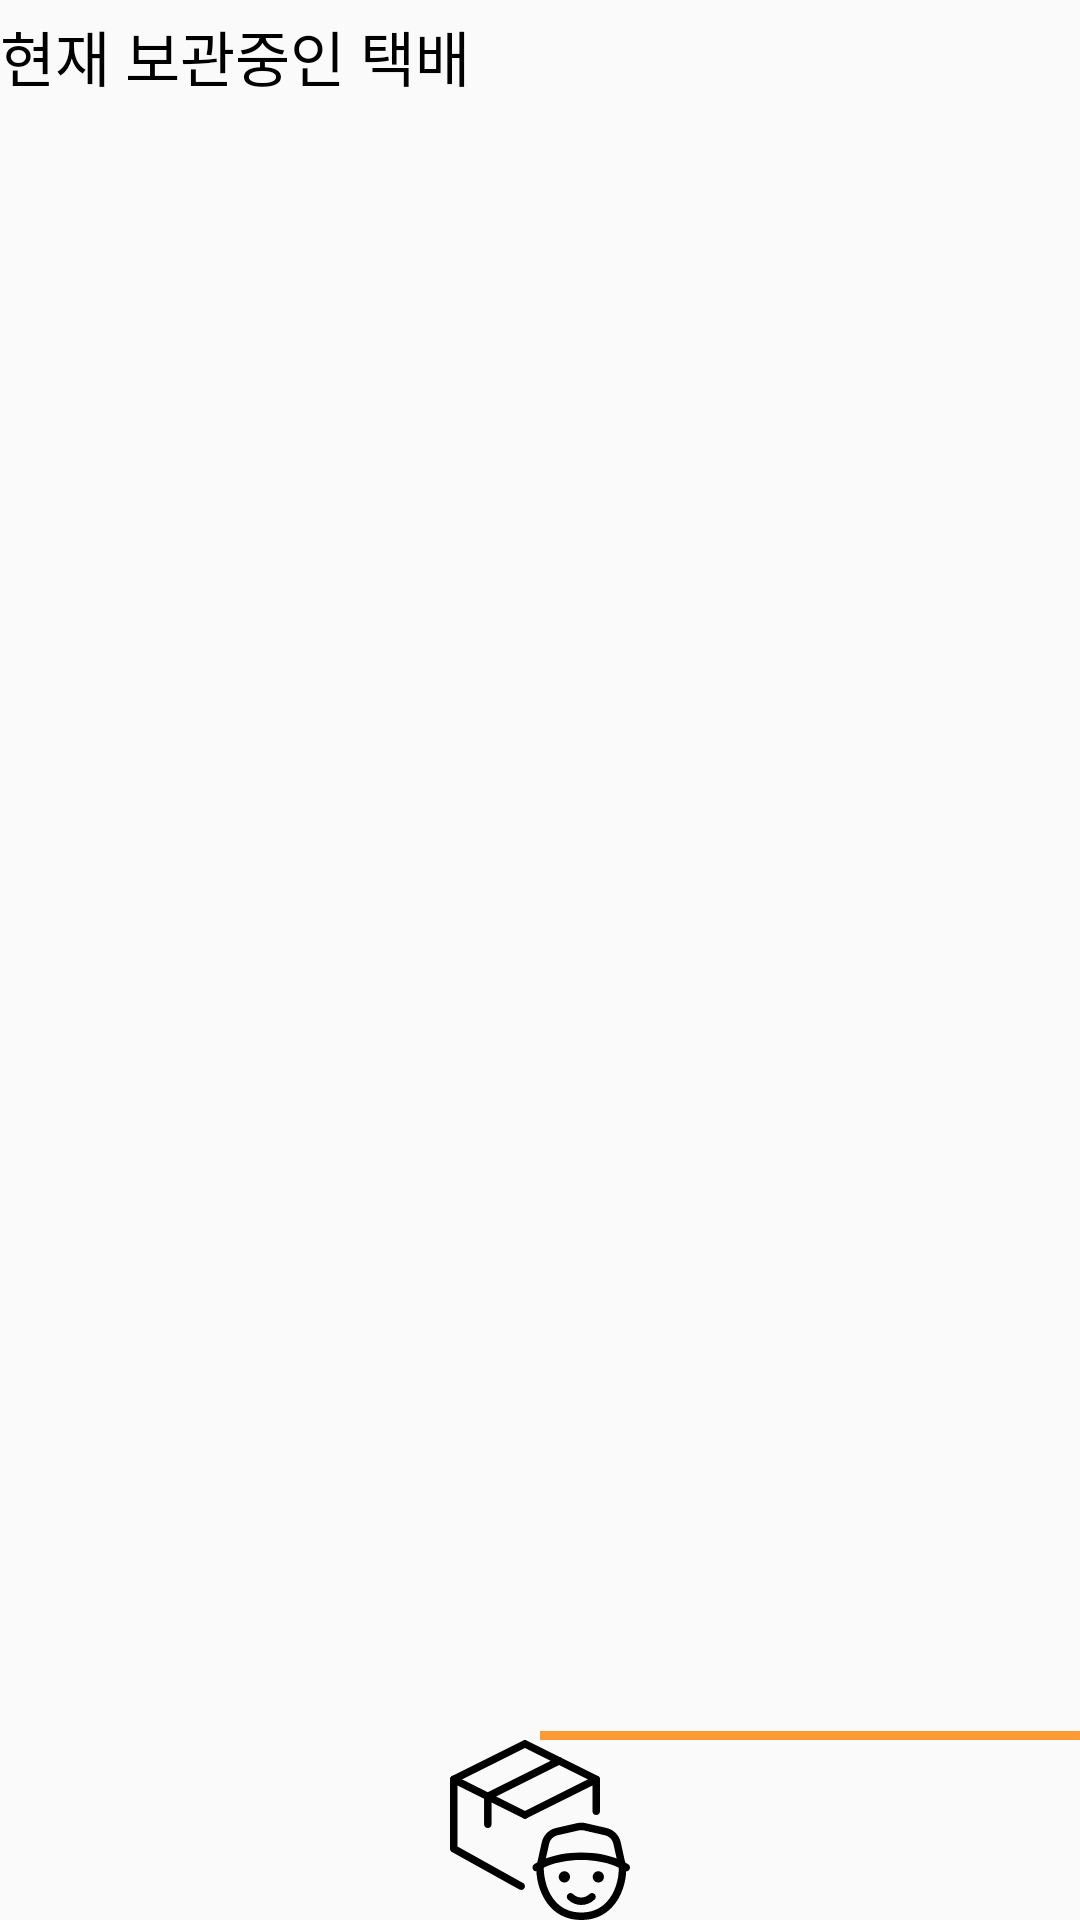

Screen size 1080×1920. Icon name, then its center in pixels as [x,y]:
free delivery courier: [540,1830]
